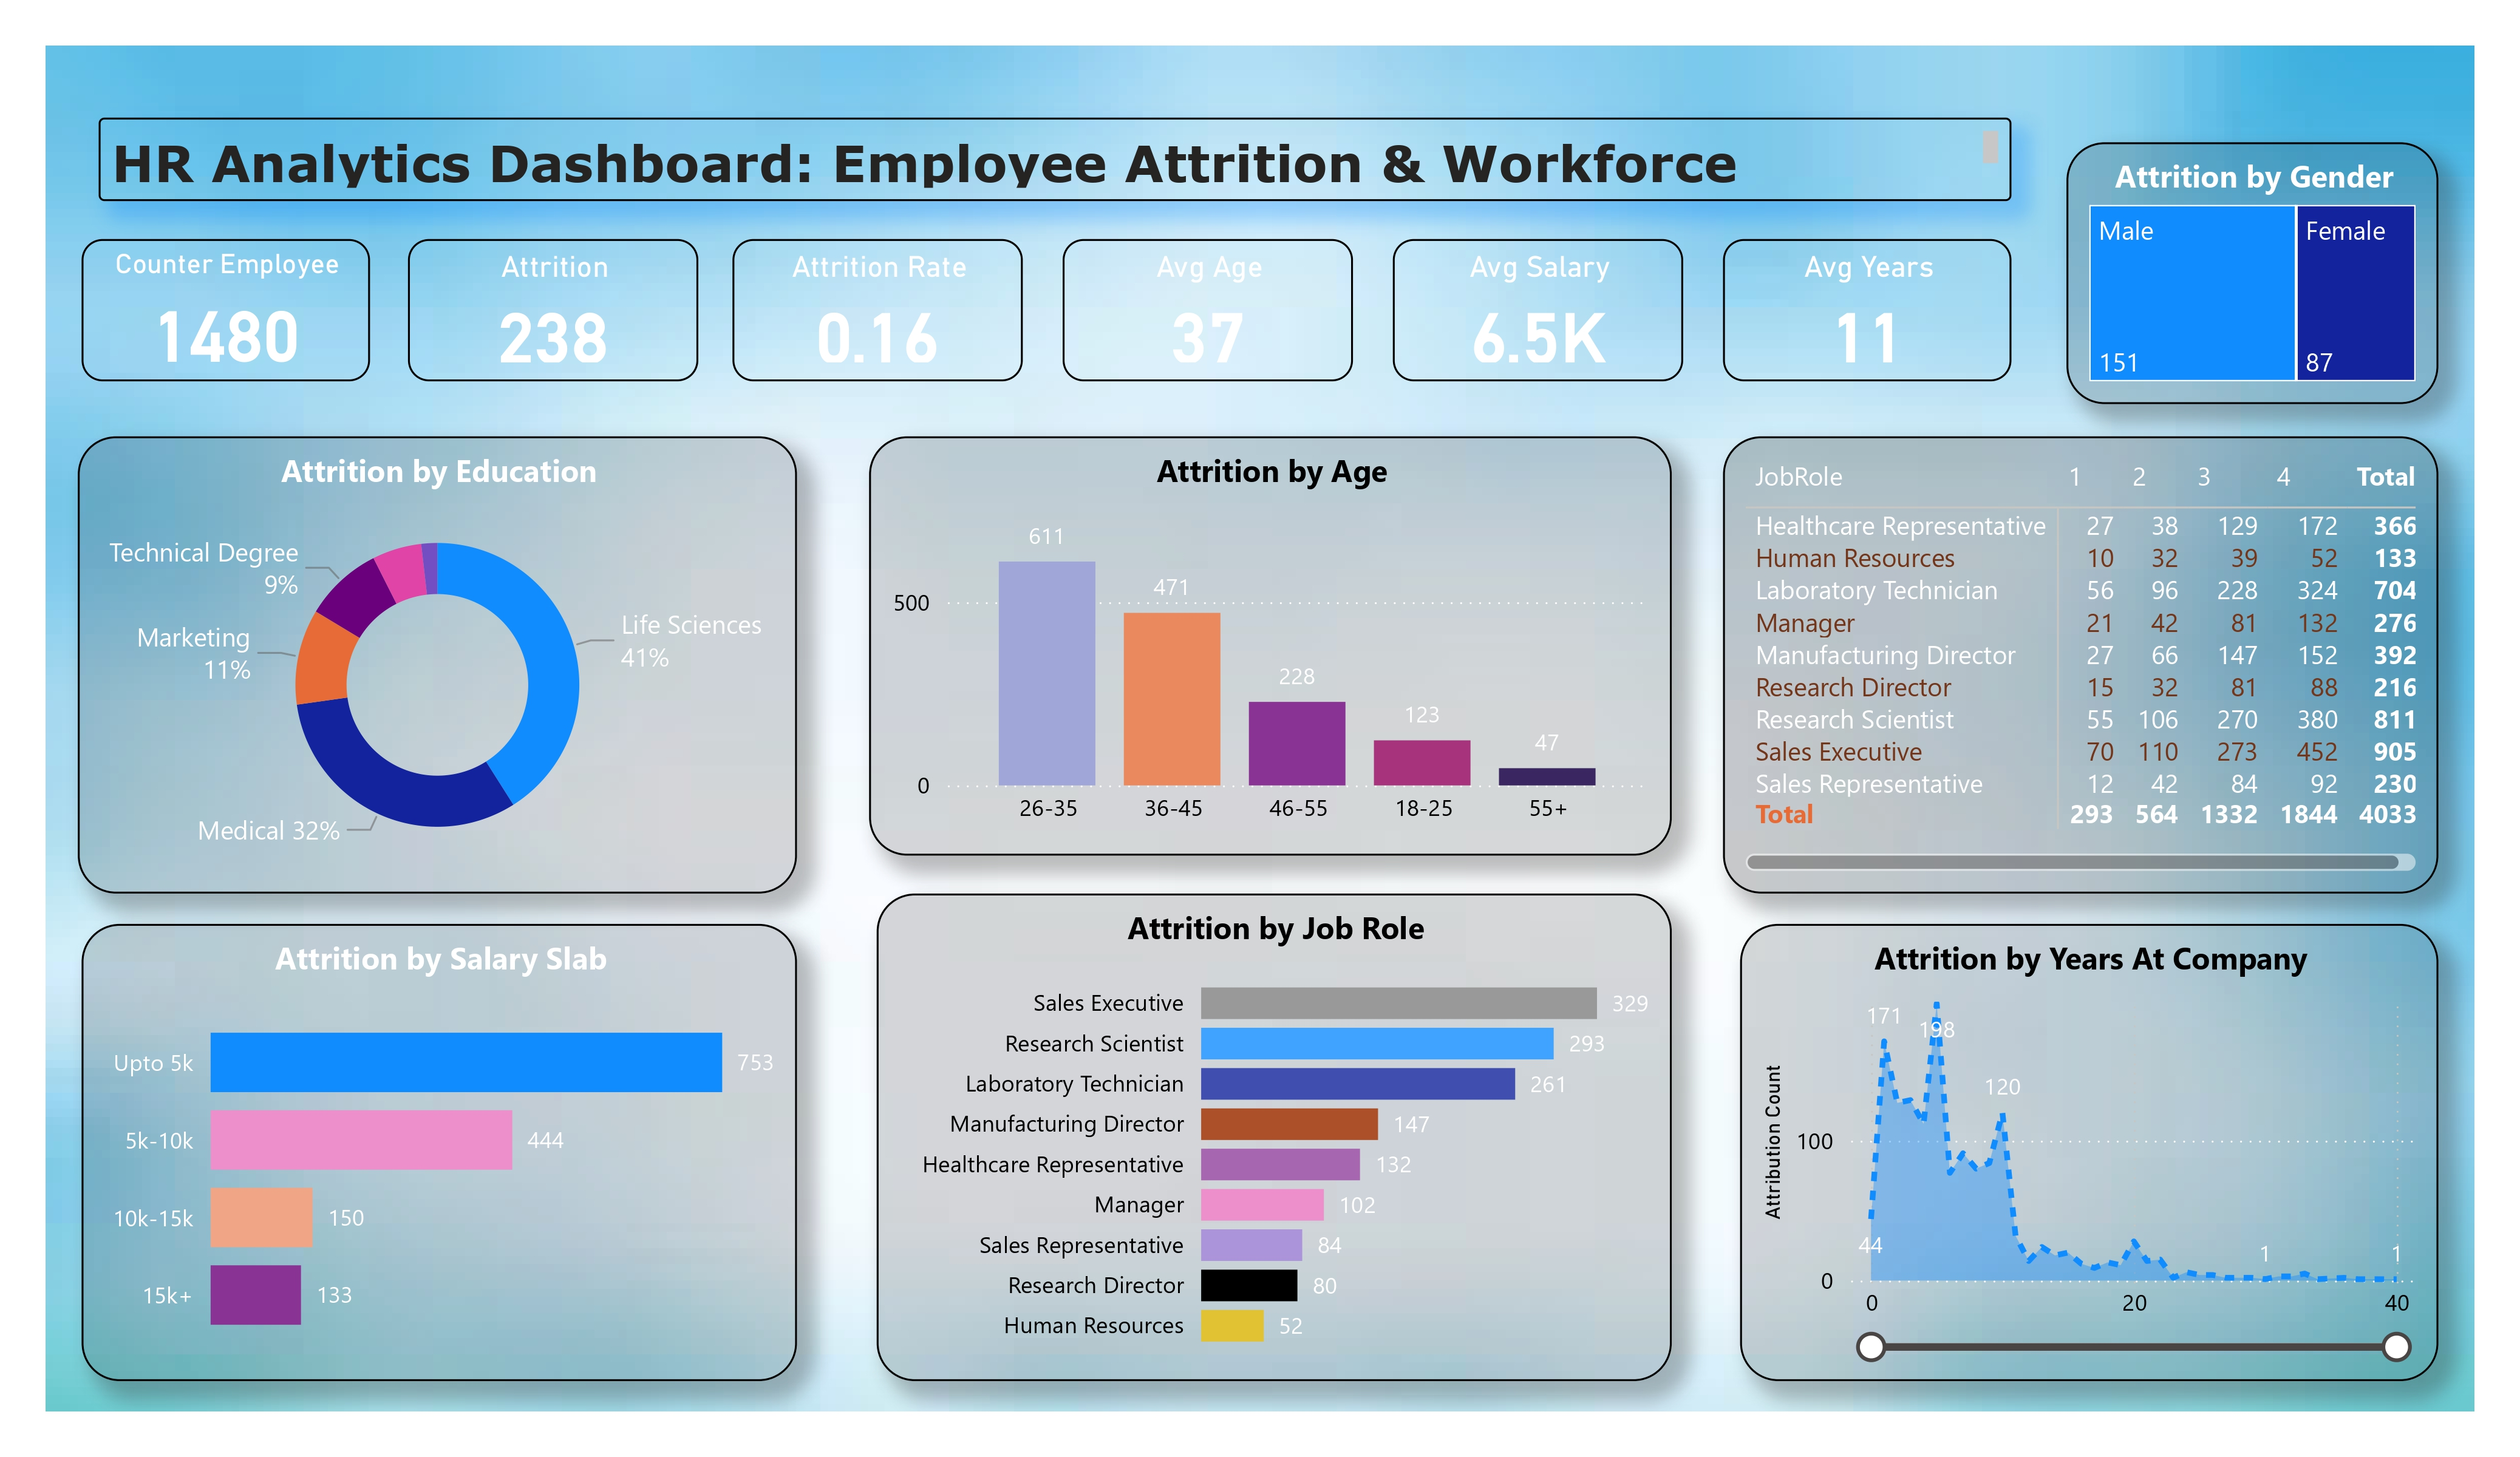

Layout of this report page (visuals, bound fields, positions):
{"tool":"powerbi","page":{"name":"Page 1","canvas":[1280,720],"ordinal":0},"visuals":[{"type":"card","title":"Attrition","fields":{"Values":["HR_Analytics.Attrition Count"]},"box":[190.7,101.9,152.9,75.5],"z":0},{"type":"card","title":"Attrition Rate","fields":{"Values":["HR_Analytics.Attrition Rate"]},"box":[362.5,101.9,152.9,75.5],"z":1000},{"type":"card","title":"Avg Age","fields":{"Values":["Avg(HR_Analytics.Age)"]},"box":[536.2,101.9,152.9,75.5],"z":2000},{"type":"card","title":"Avg Salary","fields":{"Values":["Avg(HR_Analytics.MonthlyIncome)"]},"box":[709.9,101.9,152.9,75.5],"z":3000},{"type":"card","title":"Avg Years","fields":{"Values":["Avg(HR_Analytics.TotalWorkingYears)"]},"box":[883.5,101.9,152.9,75.5],"z":4000},{"type":"treemap","title":"Attrition by Gender","fields":{"Group":["HR_Analytics.Gender"],"Values":["HR_Analytics.Attrition Count"]},"box":[1064.8,51,196.3,137.8],"z":5000},{"type":"donutChart","title":"Attrition by Education","fields":{"Category":["HR_Analytics.EducationField"],"Y":["CountNonNull(HR_Analytics.Attrition)"]},"box":[17,205.8,379.5,241.7],"z":6000},{"type":"columnChart","title":"Attrition by Age","fields":{"Category":["HR_Analytics.AgeGroup"],"Y":["CountNonNull(HR_Analytics.Attrition)"]},"box":[434.2,205.8,422.9,220.9],"z":7000},{"type":"barChart","title":"Attrition by Salary Slab","fields":{"Category":["HR_Analytics.SalarySlab"],"Y":["CountNonNull(HR_Analytics.Attrition)"]},"box":[18.9,462.5,377.6,241.7],"z":8000},{"type":"barChart","title":"Attrition by Job Role","fields":{"Y":["CountNonNull(HR_Analytics.Attrition)"],"Category":["HR_Analytics.JobRole"]},"box":[438,447.4,419.1,256.8],"z":9000},{"type":"areaChart","title":"Attrition by Years At Company","fields":{"Y":["CountNonNull(HR_Analytics.Attrition)"],"Category":["HR_Analytics.YearsAtCompany"]},"box":[893,462.5,368.1,241.7],"z":10000},{"type":"pivotTable","fields":{"Rows":["HR_Analytics.JobRole"],"Columns":["HR_Analytics.JobSatisfaction"],"Values":["Sum(HR_Analytics.JobSatisfaction)"]},"box":[883.5,205.8,377.6,241.7],"z":11000},{"type":"card","title":"Counter Employee","fields":{"Values":["HR_Analytics.Total Employees"]},"box":[18.9,101.9,152,75.5],"z":12000},{"type":"textbox","box":[28.3,38.3,1007.7,43.9],"z":12001}]}

Visuals, with their boxes in screenshot pixels (x1, y1, x2, y2):
"Attrition" card: <region>410, 237, 696, 378</region>
"Attrition Rate" card: <region>731, 237, 1018, 378</region>
"Avg Age" card: <region>1057, 237, 1343, 378</region>
"Avg Salary" card: <region>1382, 237, 1668, 378</region>
"Avg Years" card: <region>1707, 237, 1994, 378</region>
"Attrition by Gender" treemap: <region>2046, 141, 2414, 399</region>
"Attrition by Education" donutChart: <region>84, 431, 795, 884</region>
"Attrition by Age" columnChart: <region>866, 431, 1658, 845</region>
"Attrition by Salary Slab" barChart: <region>88, 912, 795, 1364</region>
"Attrition by Job Role" barChart: <region>873, 883, 1658, 1364</region>
"Attrition by Years At Company" areaChart: <region>1725, 912, 2414, 1364</region>
pivotTable - HR_Analytics.JobRole x HR_Analytics.JobSatisfaction: <region>1707, 431, 2414, 884</region>
"Counter Employee" card: <region>88, 237, 373, 378</region>
textbox: <region>106, 118, 1993, 200</region>
